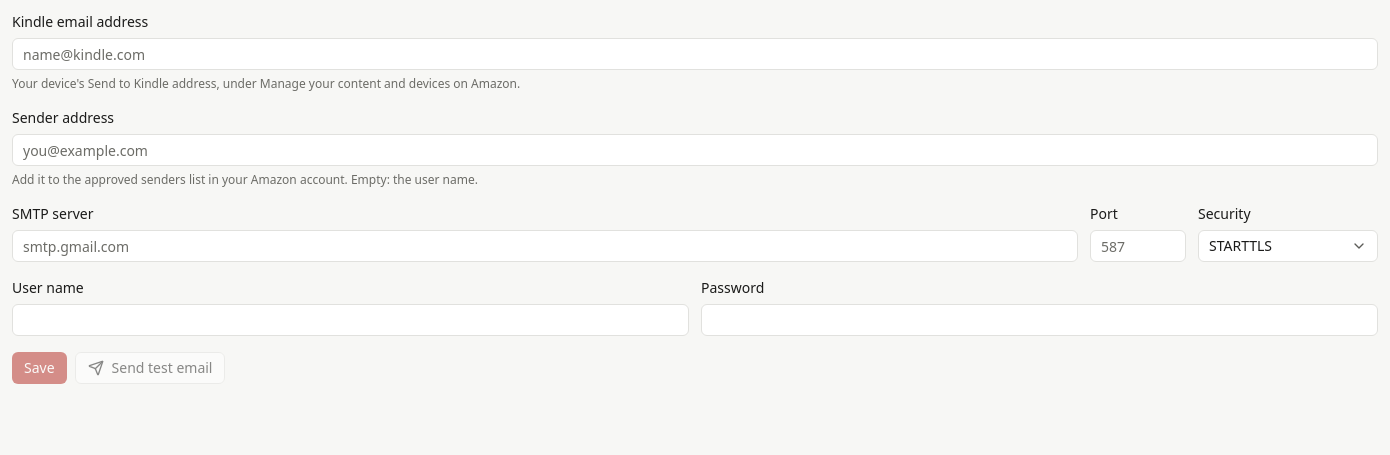
it: email settings › tests with a typed password before it is saved
Type "smtp.example.test" into the field labelled "SMTP server" at coordinates (545, 246), box [12, 230, 1078, 262]
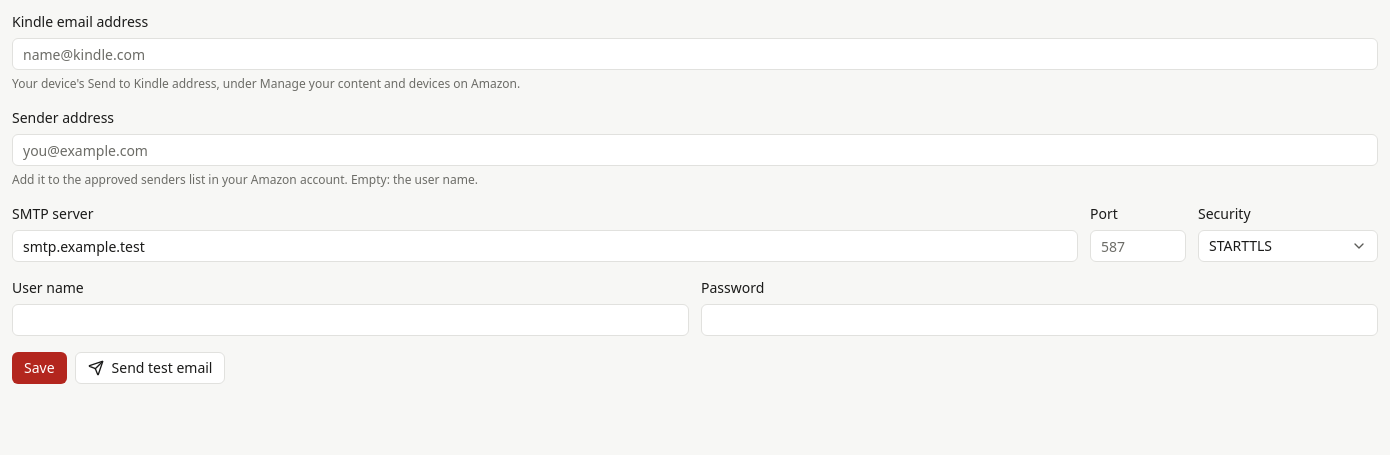
Type "typed-pw" into the password field labelled "Password" at coordinates (1040, 320), box [701, 304, 1378, 336]
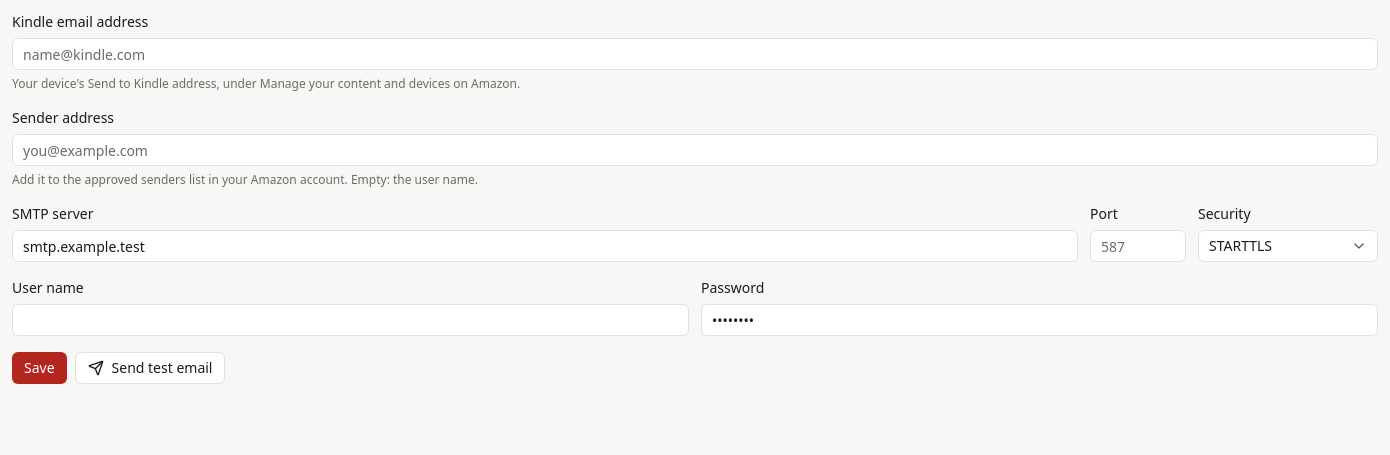
Click the button "Send test email" at coordinates (150, 368), box [75, 352, 226, 384]
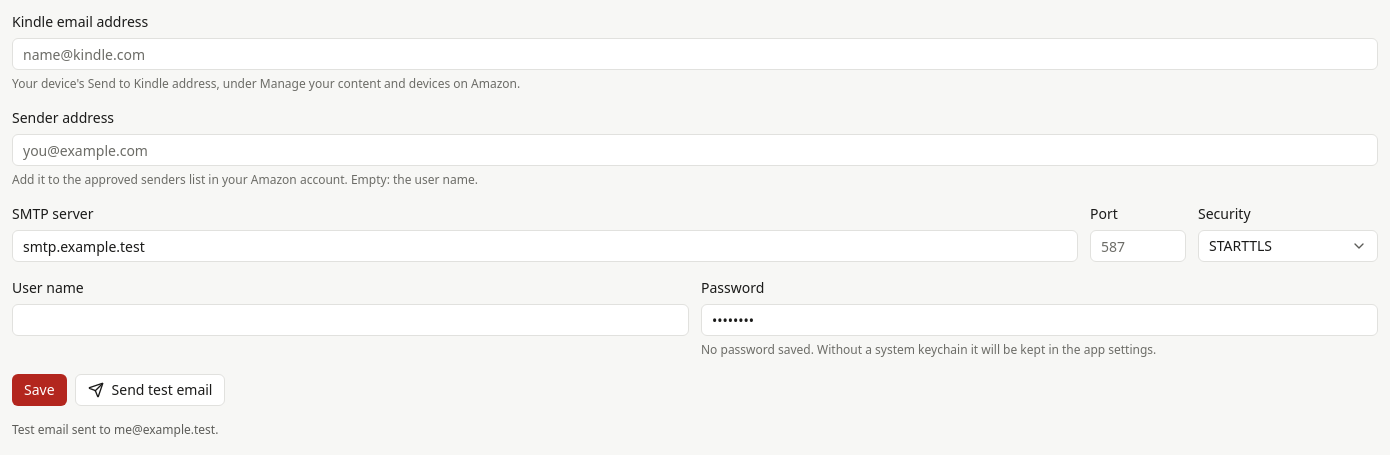
Expected: the text "Test email sent to me@example.test." is shown, [12, 421, 218, 438]
